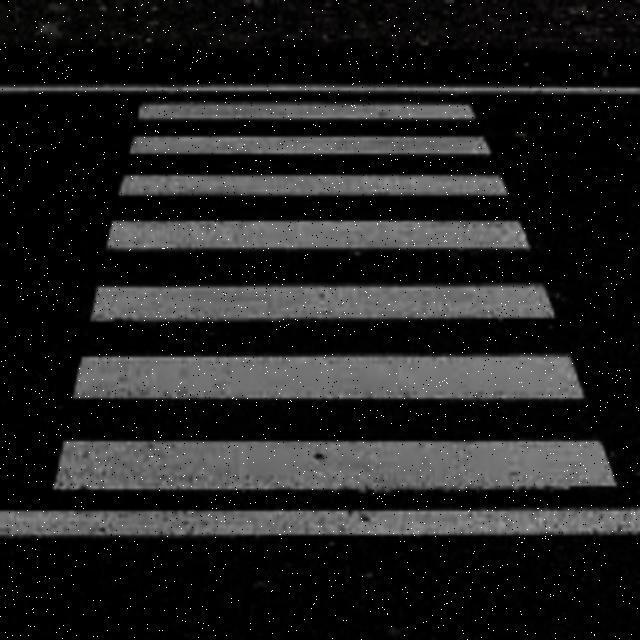Pedestrian crosswalk: (32, 91, 621, 508)
